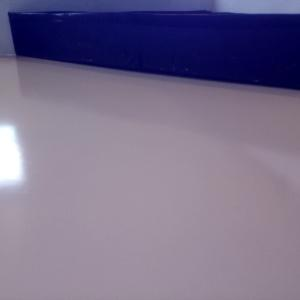zone: (7, 11, 300, 89)
